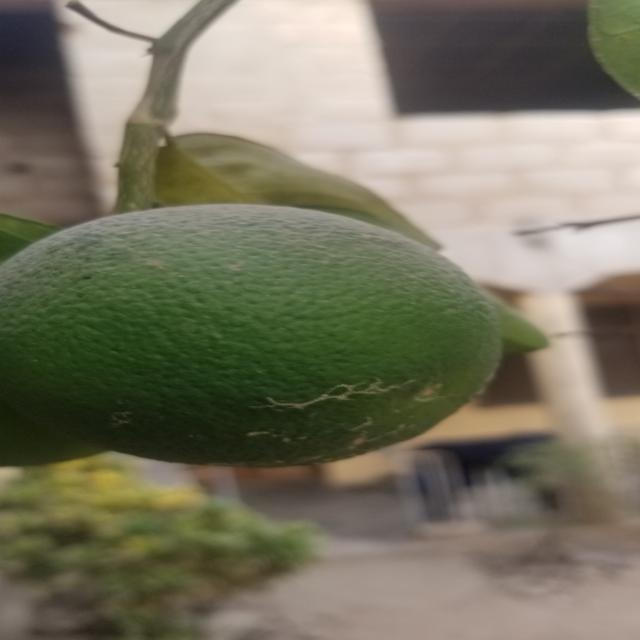agrume: (7, 200, 493, 468)
